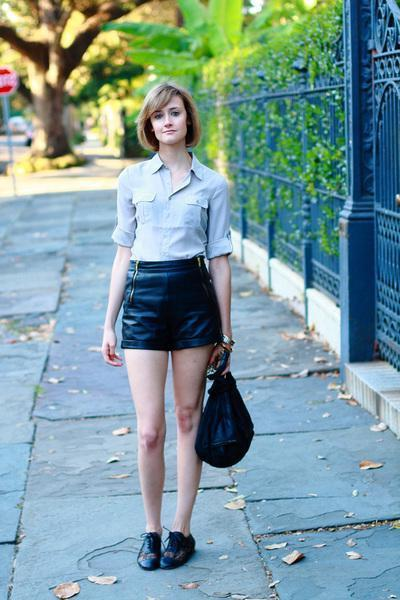short sleeve shirt: (112, 149, 240, 266)
skirt: (118, 252, 224, 357)
